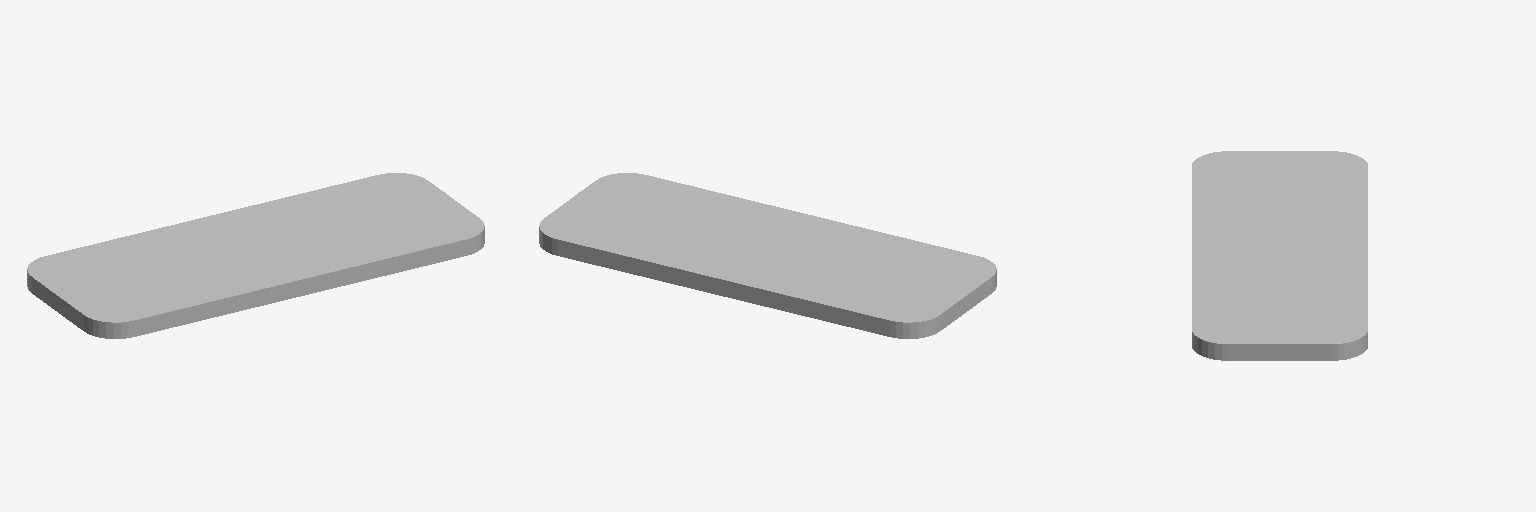
File: TOOLS_Templates_TypeC.obj
3 views of the same model, side by side, from view 1: azimuth 30°, elevation 25°; view 2: azimuth 150°, elevation 25°; view 3: azimuth 270°, elevation 25° (orthographic).
Visible parts, largest first — view 1: object_1; view 2: object_1; view 3: object_1.
Part boxes in pixels (left/top/right/bottom): object_1: left=27, top=173, right=484, bottom=338; object_1: left=539, top=173, right=996, bottom=338; object_1: left=1192, top=151, right=1367, bottom=360.
Bounding box in the file's own units: 125 × 5 × 48.31.